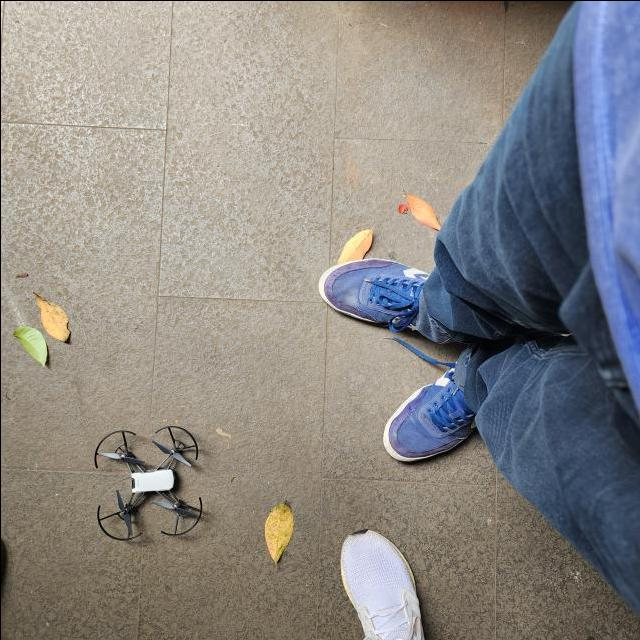drone: (94, 424, 202, 539)
